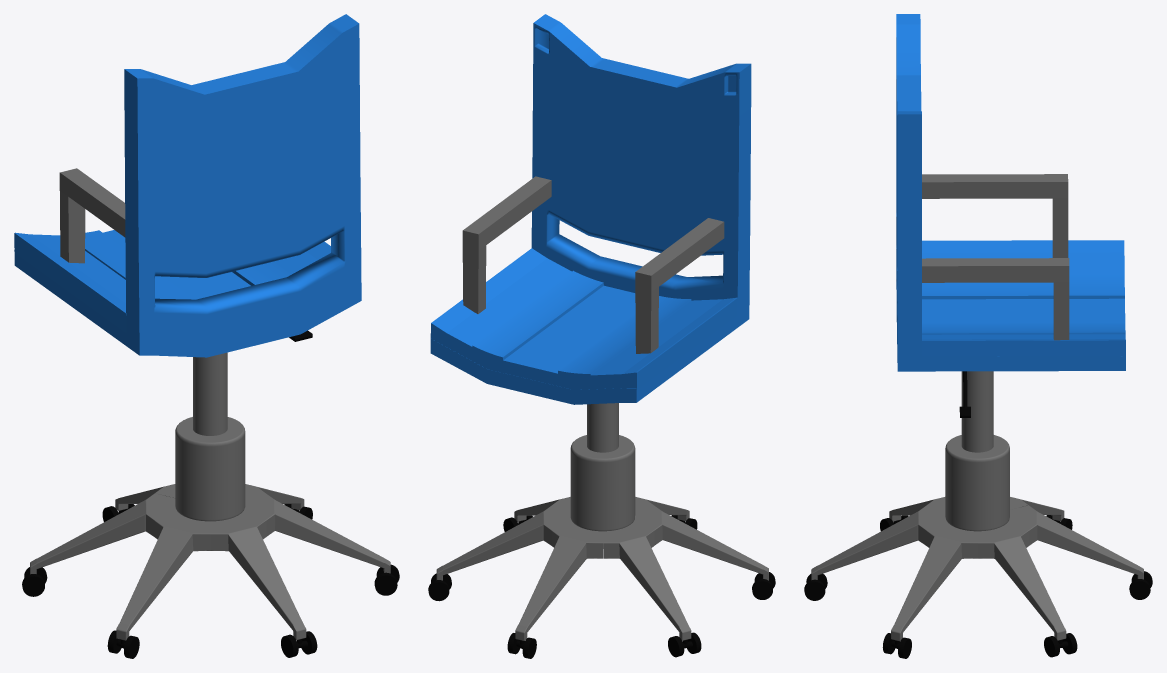
File: kursii.fbx
The picture shows the model from 3 angles, left to right: view 1: azimuth 30°, elevation 25°; view 2: azimuth 150°, elevation 25°; view 3: azimuth 270°, elevation 25°; orthographic projection. The views are drawn at different scales.
Visible parts, largest first — view 1: Circle; view 2: Circle; view 3: Circle.
Part boxes in pixels (x1,y1,x2,y2): Circle: [14, 14, 399, 658]; Circle: [428, 14, 775, 658]; Circle: [804, 14, 1152, 658].
Size of the model in its own units: 66.98 by 124 by 74.12.
